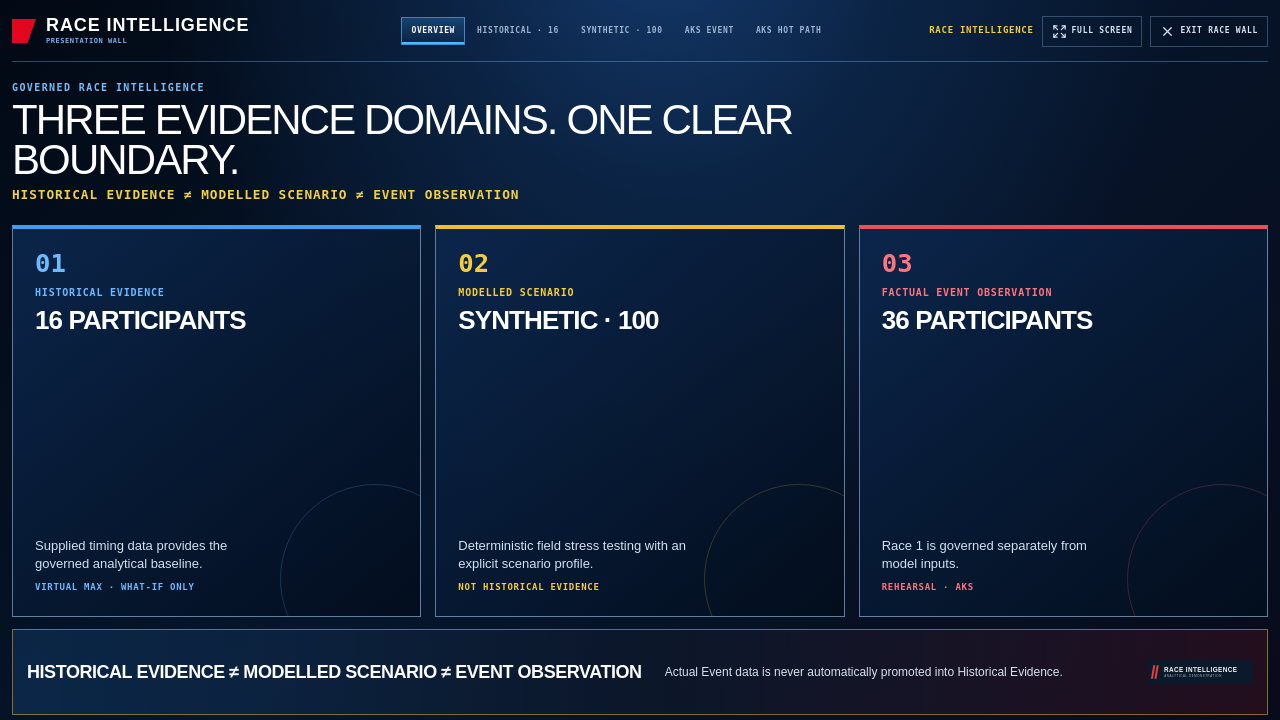
Test: RaceWall › renders factual geometry and replay markers independently from the temporal series
What coordinates should you click on to do the following:
click the button "AKS EVENT"
I would click on:
 (709, 31)
Its box is x1=675 y1=17 x2=744 y2=45.
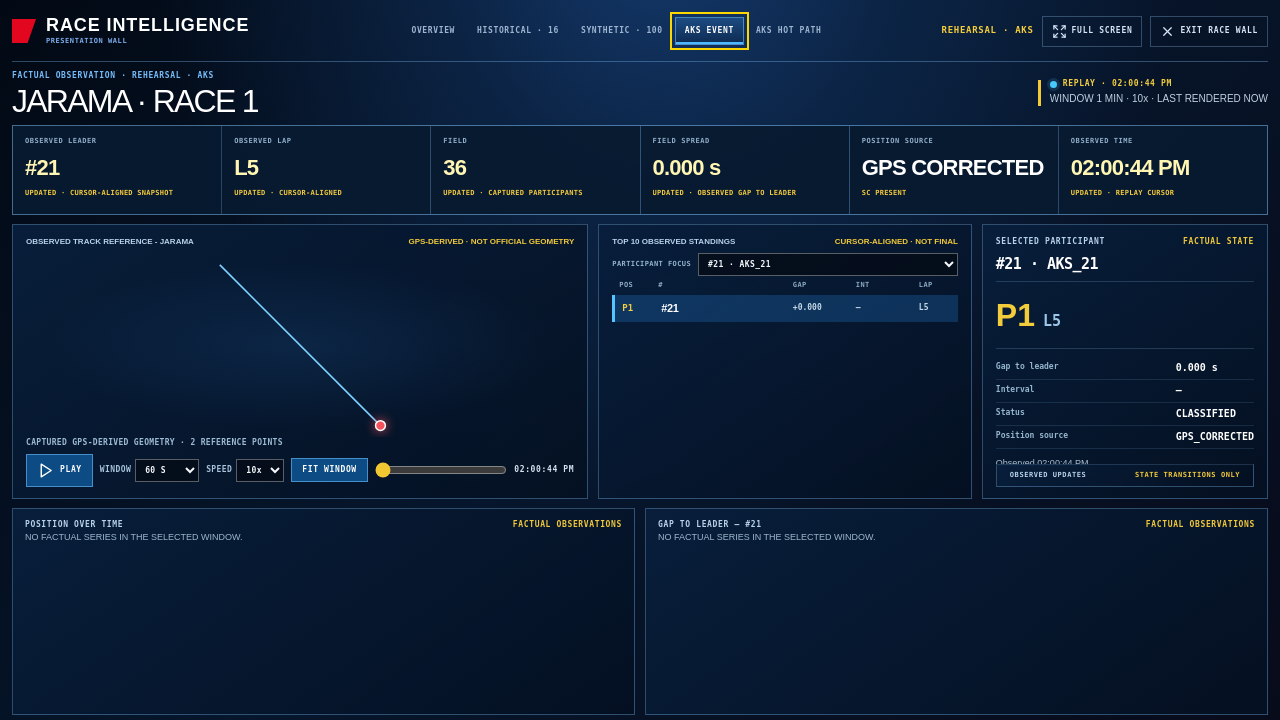
Now the text "SELECTED PARTICIPANT" is shown, box x1=996 y1=236 x2=1105 y2=248
Now the text "#21" below "OBSERVED LEADER" is shown, box x1=25 y1=155 x2=59 y2=180
